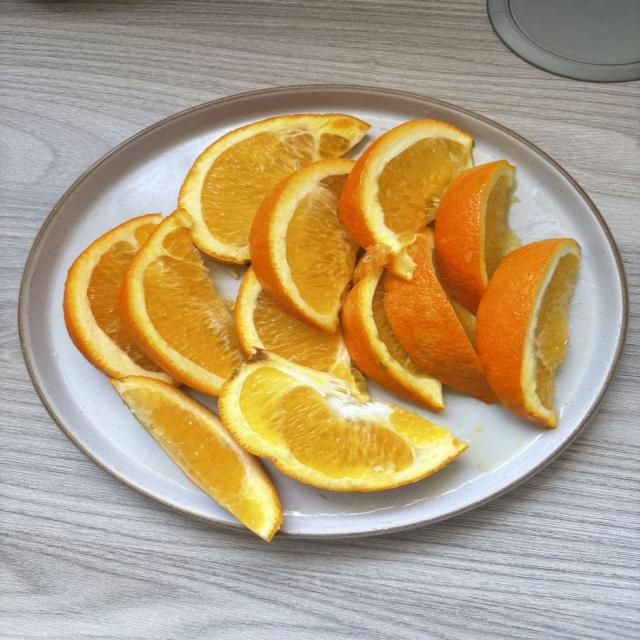orange: (219, 351, 466, 491), (179, 114, 369, 263), (112, 376, 282, 541), (120, 210, 243, 394), (340, 120, 473, 279), (384, 229, 496, 403), (477, 239, 579, 427), (250, 158, 358, 333), (64, 214, 171, 381), (234, 268, 368, 399), (341, 254, 443, 411), (435, 160, 519, 313)
